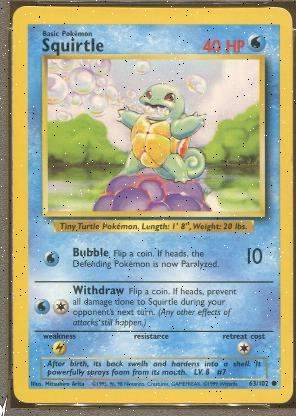Card: (10, 4, 294, 406)
